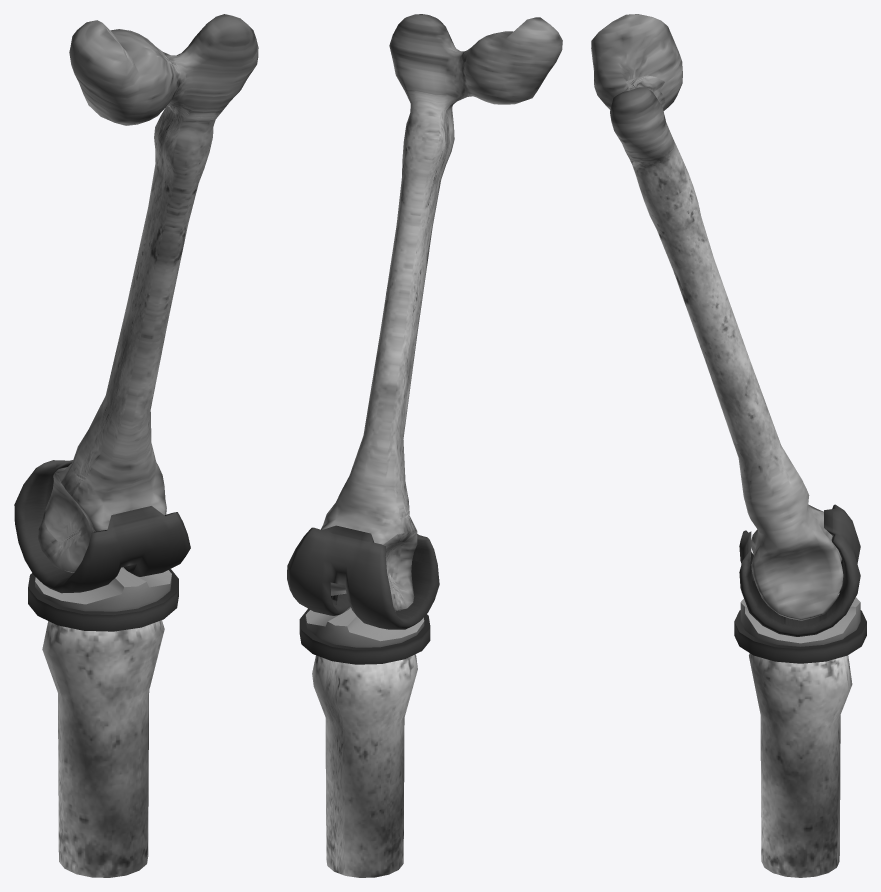
The model's file is bio_knee.dae.
The picture shows the model from 3 angles, left to right: view 1: azimuth 30°, elevation 25°; view 2: azimuth 150°, elevation 25°; view 3: azimuth 270°, elevation 25°; orthographic projection. The views are drawn at different scales.
Parts seen in each view (by area): view 1: pCube1, pCylinder3, polySurface2, pCylinder1, pCylinder2; view 2: pCube1, pCylinder3, polySurface2, pCylinder2, pCylinder1; view 3: pCube1, pCylinder3, polySurface2, pCylinder1, pCylinder2.
Part boxes in pixels (bbox=[...]): pCube1: bbox=[38, 14, 258, 572]; pCylinder3: bbox=[42, 620, 164, 877]; polySurface2: bbox=[14, 460, 190, 593]; pCylinder1: bbox=[28, 569, 178, 631]; pCylinder2: bbox=[35, 567, 171, 611]; pCube1: bbox=[321, 14, 562, 611]; pCylinder3: bbox=[312, 654, 417, 877]; polySurface2: bbox=[287, 525, 439, 629]; pCylinder2: bbox=[305, 607, 424, 647]; pCylinder1: bbox=[299, 608, 430, 664]; pCube1: bbox=[591, 14, 843, 620]; pCylinder3: bbox=[749, 653, 852, 877]; polySurface2: bbox=[739, 504, 860, 636]; pCylinder1: bbox=[734, 610, 866, 663]; pCylinder2: bbox=[740, 597, 860, 646].
Size of the model in its own units: 4.91 by 22.71 by 7.04.
1 material, 1 textured.
